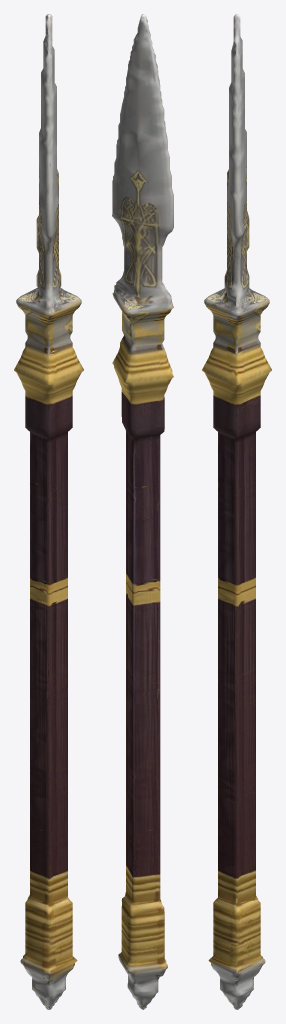
Rendered from Neyzeh.glb.
3 views of the same model, side by side, from view 1: azimuth 90°, elevation 25°; view 2: azimuth 150°, elevation 25°; view 3: azimuth 270°, elevation 25° (orthographic).
Size of the model in its own units: 0.1213 by 1.91 by 0.1213.
Materials: 1 (1 with a texture image).
